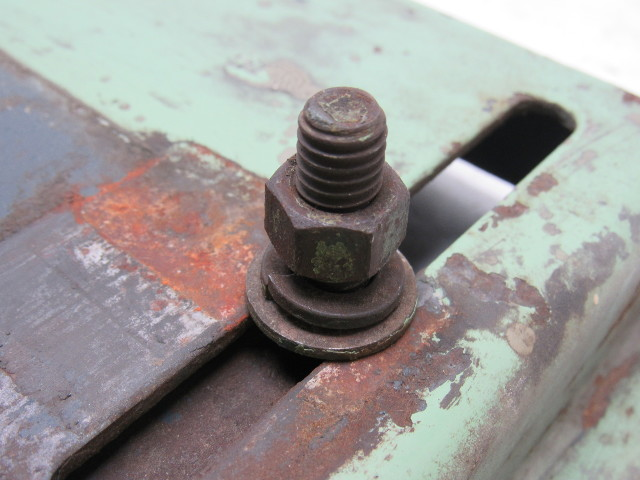bolt_b: (263, 147, 411, 286)
